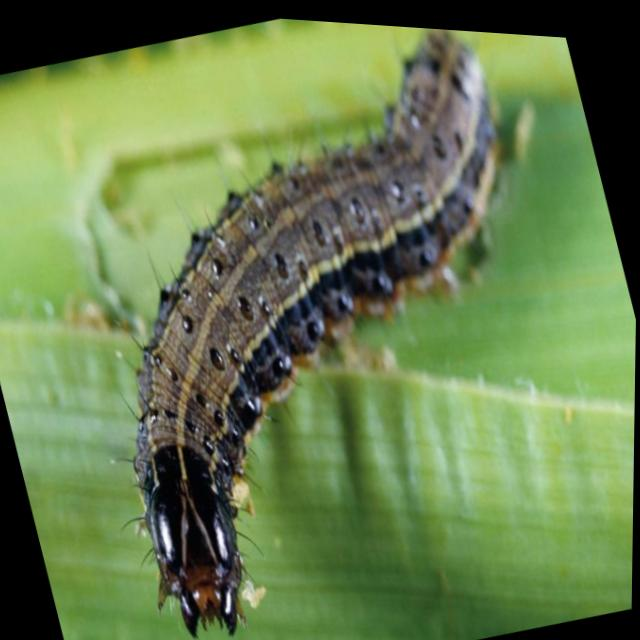Fall-Armyworm: (25, 3, 625, 640)
